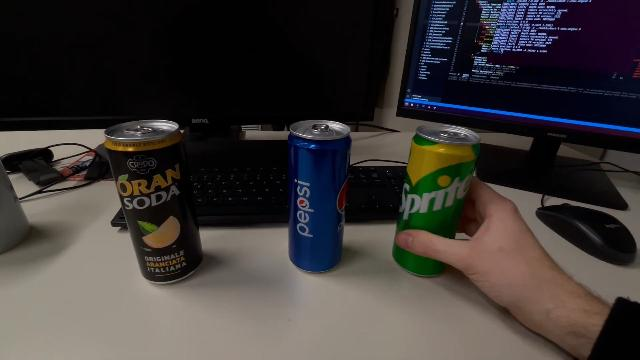OranSoda: (104, 116, 204, 286)
Pepsi: (286, 116, 354, 276)
Sprite: (390, 120, 482, 280)
